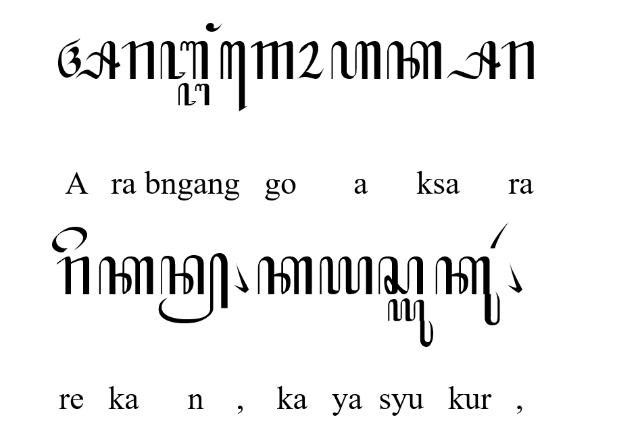-n: (156, 252, 228, 326)
A: (58, 37, 120, 80)
_r1: (488, 222, 509, 248)
_s: (446, 40, 500, 80)
b: (160, 40, 208, 80)
e: (51, 226, 87, 254)
e1: (220, 40, 248, 112)
g: (250, 41, 294, 80)
h: (331, 40, 382, 80)
k: (256, 256, 314, 296), (386, 40, 442, 80), (98, 256, 154, 296)
kom: (507, 262, 523, 294), (234, 263, 248, 293)
ku: (435, 256, 501, 326)
ng: (205, 22, 222, 32)
nga: (178, 82, 210, 106)
o: (298, 40, 324, 80)
r: (500, 40, 536, 80), (56, 256, 90, 296), (122, 40, 154, 80)
s: (378, 256, 424, 296)
y: (319, 255, 373, 296)
yu: (388, 299, 434, 348)
